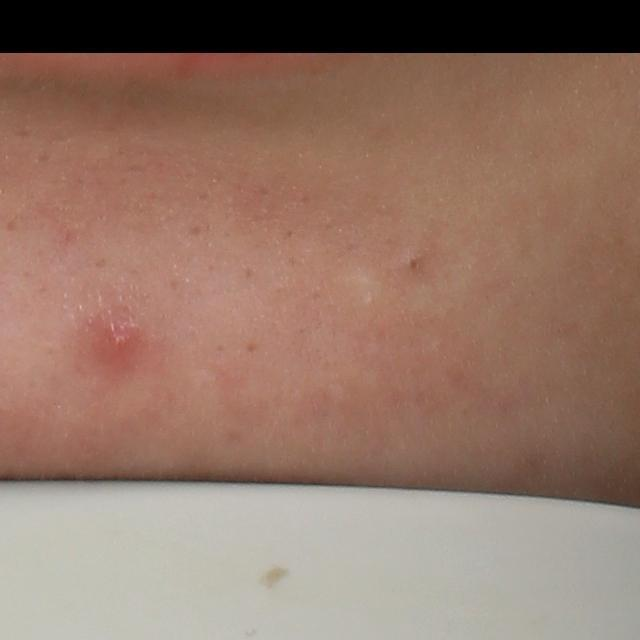comedo: (402, 250, 426, 272)
hypertrophic_scar: (342, 269, 387, 319)
papule: (99, 320, 139, 366)
